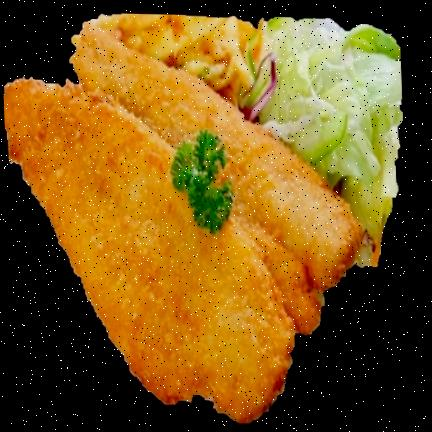chicken: (4, 20, 365, 422)
salad: (260, 17, 402, 241)
